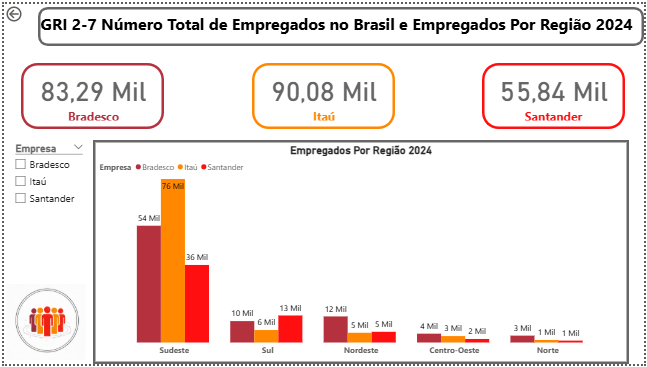

The dashboard page shown, as its layout file describes it:
{"tool":"powerbi","page":{"name":"GRI 2-7 Número Total De Empregados Região","canvas":[1280,720],"ordinal":1},"visuals":[{"type":"shape","box":[68,6,1212,78],"z":0},{"type":"shape","box":[171.3,278.8,1070,394.8],"z":1000},{"type":"shape","box":[956,118,286,132],"z":2000},{"type":"shape","box":[496,118,286,132],"z":3000},{"type":"shape","box":[34,118,286,132],"z":4000},{"type":"textbox","box":[68,12,1212,68],"z":5000},{"type":"clusteredColumnChart","title":"Empregados Por Região 2024*","fields":{"Series":["Fato.Empresa"],"Y":["Sum(Fato.Valor)"],"Category":["Fato.Caterogia Resumida"]},"box":[179.7,297.3,1061.6,356.1],"z":6000},{"type":"slicer","fields":{"Values":["Fato.Empresa"]},"box":[0,278.8,154.5,144.5],"z":7000},{"type":"card","fields":{"Values":["_medidas.GRI_2_7_Empregados_Total_Brasil_Bradesco"]},"box":[52,128,254,110],"z":8000},{"type":"card","fields":{"Values":["_medidas.GRI_2_7_Empregados_Total_Brasil_Itau"]},"box":[520,128,240,110],"z":9000},{"type":"card","fields":{"Values":["_medidas.GRI_2_7_Empregados_Total_Brasil_Santander"]},"box":[974,128,250,110],"z":10000},{"type":"actionButton","box":[0,0,100,40],"z":11000},{"type":"image","box":[0,572.8,154.5,147.8],"z":12000},{"type":"textbox","box":[171.3,673.6,1070,47],"z":13000}]}

Visuals, with their boxes in screenshot pixels (x1, y1, x2, y2), scaled from the page's 1280x720 canvas onto the 647x367 screenshot:
shape: {"x1": 34, "y1": 3, "x2": 646, "y2": 43}
shape: {"x1": 87, "y1": 142, "x2": 627, "y2": 343}
shape: {"x1": 483, "y1": 60, "x2": 628, "y2": 127}
shape: {"x1": 251, "y1": 60, "x2": 395, "y2": 127}
shape: {"x1": 17, "y1": 60, "x2": 162, "y2": 127}
textbox: {"x1": 34, "y1": 6, "x2": 646, "y2": 41}
"Empregados Por Região 2024*" clusteredColumnChart: {"x1": 91, "y1": 152, "x2": 627, "y2": 333}
slicer - Fato.Empresa: {"x1": 0, "y1": 142, "x2": 78, "y2": 216}
card - _medidas.GRI_2_7_Empregados_Total_Brasil_Bradesco: {"x1": 26, "y1": 65, "x2": 155, "y2": 121}
card - _medidas.GRI_2_7_Empregados_Total_Brasil_Itau: {"x1": 263, "y1": 65, "x2": 384, "y2": 121}
card - _medidas.GRI_2_7_Empregados_Total_Brasil_Santander: {"x1": 492, "y1": 65, "x2": 619, "y2": 121}
actionButton: {"x1": 0, "y1": 0, "x2": 51, "y2": 20}
image: {"x1": 0, "y1": 292, "x2": 78, "y2": 366}
textbox: {"x1": 87, "y1": 343, "x2": 627, "y2": 366}
